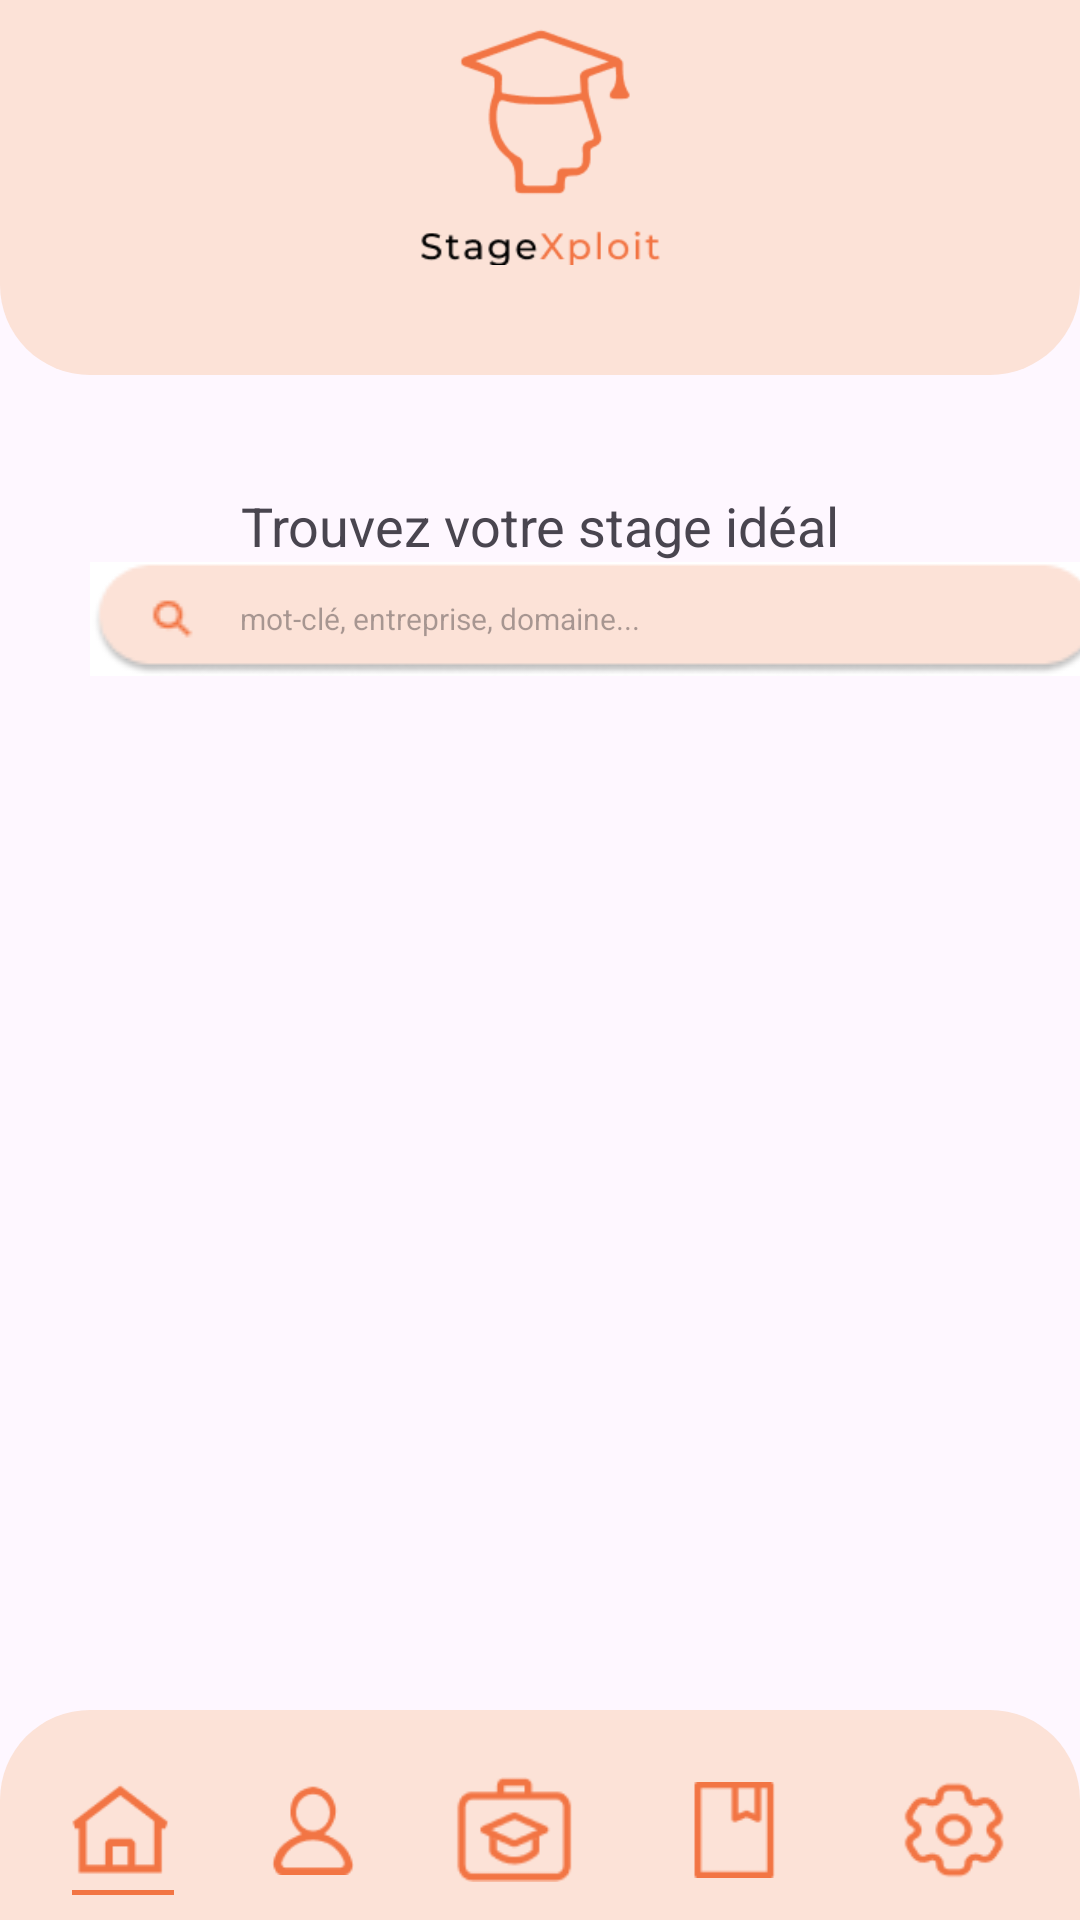

Where icons sit on this 1080*1920 app screen, as (x1, y1, x2, y2):
accueil: (72, 1786, 168, 1874)
candidature: (694, 1782, 774, 1878)
parametre: (904, 1783, 1004, 1877)
profil: (273, 1786, 353, 1875)
stage: (457, 1778, 571, 1882)
